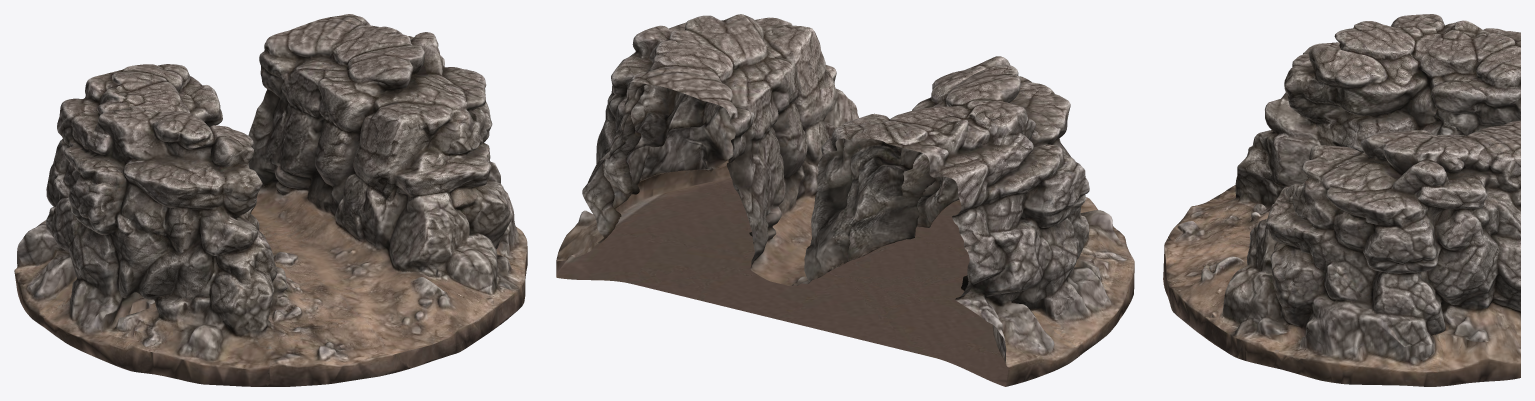
3 views of the same model, side by side, from view 1: azimuth 30°, elevation 25°; view 2: azimuth 150°, elevation 25°; view 3: azimuth 270°, elevation 25° (orthographic). The views are drawn at different scales.
Size of the model in its own units: 18.95 by 8.24 by 13.47.
Materials: 1 (1 with a texture image).
